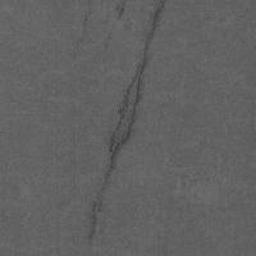Inclusion: (87, 0, 168, 242), (79, 0, 97, 38), (111, 0, 129, 22), (102, 32, 116, 49)
